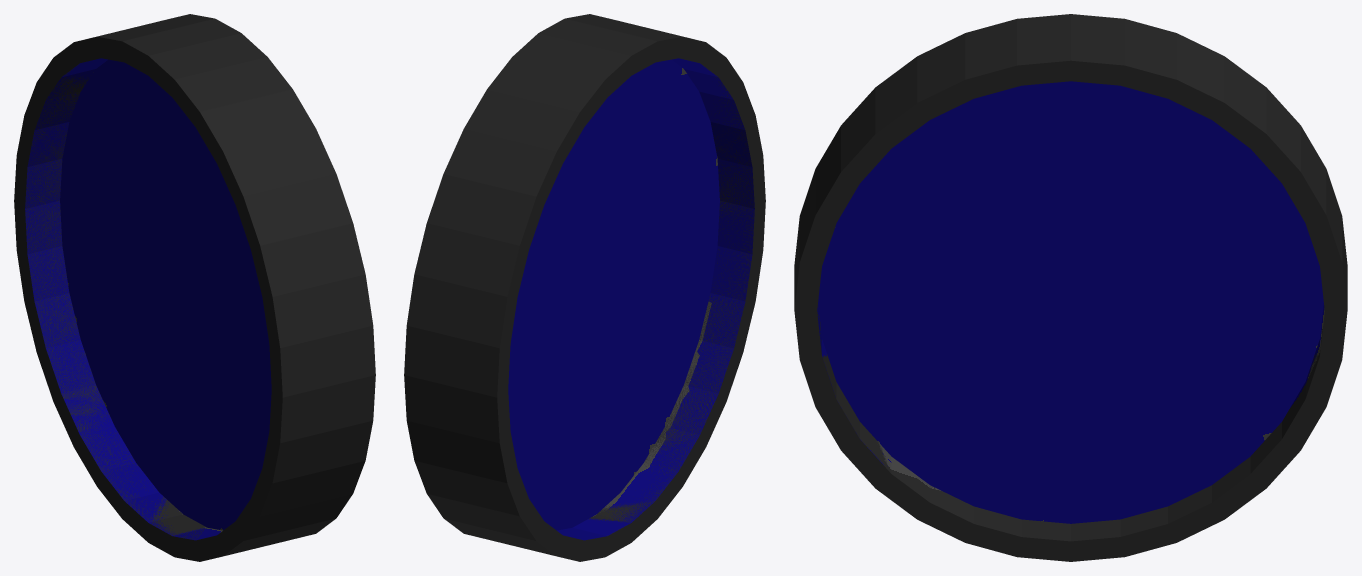
File: gate.gltf
3 views of the same model, side by side, from view 1: azimuth 30°, elevation 25°; view 2: azimuth 150°, elevation 25°; view 3: azimuth 270°, elevation 25° (orthographic). The views are drawn at different scales.
Parts seen in each view (by area): view 1: Cylinder; view 2: Cylinder; view 3: Cylinder.
Part boxes in pixels (left/top/right/bottom): Cylinder: left=14, top=14, right=375, bottom=561; Cylinder: left=404, top=14, right=765, bottom=561; Cylinder: left=794, top=14, right=1347, bottom=561.
Bounding box in the file's own units: 0.8 × 4 × 4.
1 material, 1 textured.
